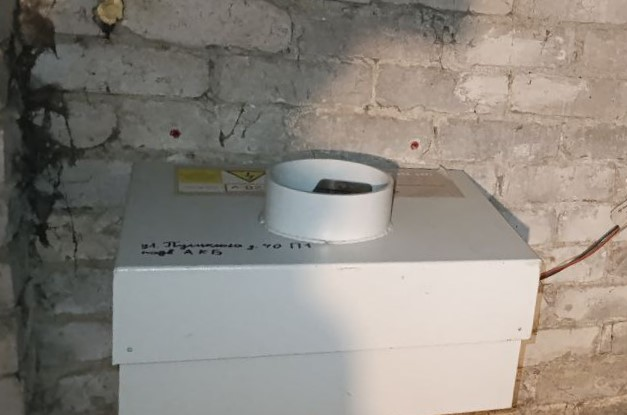shta-ps: (100, 151, 550, 414)
